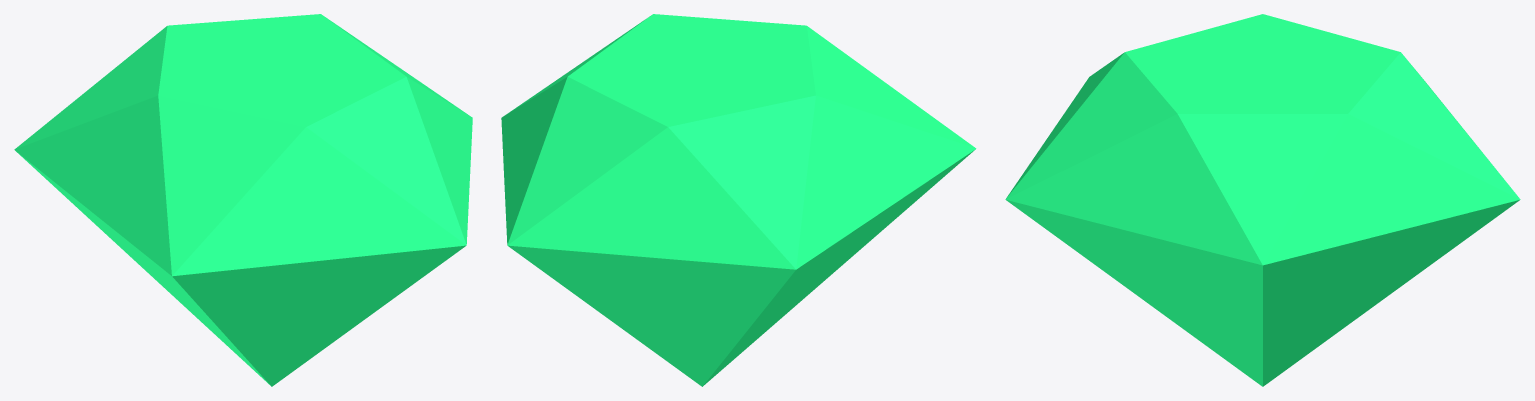
The model's file is gem_emerald_chipped.glb.
3 views of the same model, side by side, from view 1: azimuth 30°, elevation 25°; view 2: azimuth 150°, elevation 25°; view 3: azimuth 270°, elevation 25° (orthographic).
Parts seen in each view (by area): view 1: gem_emerald_1; view 2: gem_emerald_1; view 3: gem_emerald_1.
Boxes of the visible parts, <box> form: gem_emerald_1: <box>14,14,472,386</box>; gem_emerald_1: <box>501,14,976,386</box>; gem_emerald_1: <box>1005,14,1520,386</box>.
Size of the model in its own units: 0.0553 by 0.0435 by 0.0639.
